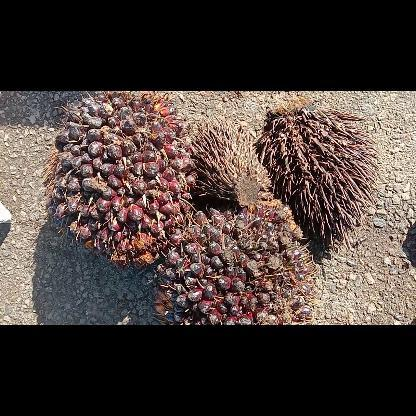Janjang kosong: (257, 95, 383, 252), (191, 115, 272, 208)
TBS mentah: (42, 90, 196, 270), (154, 200, 320, 324)
